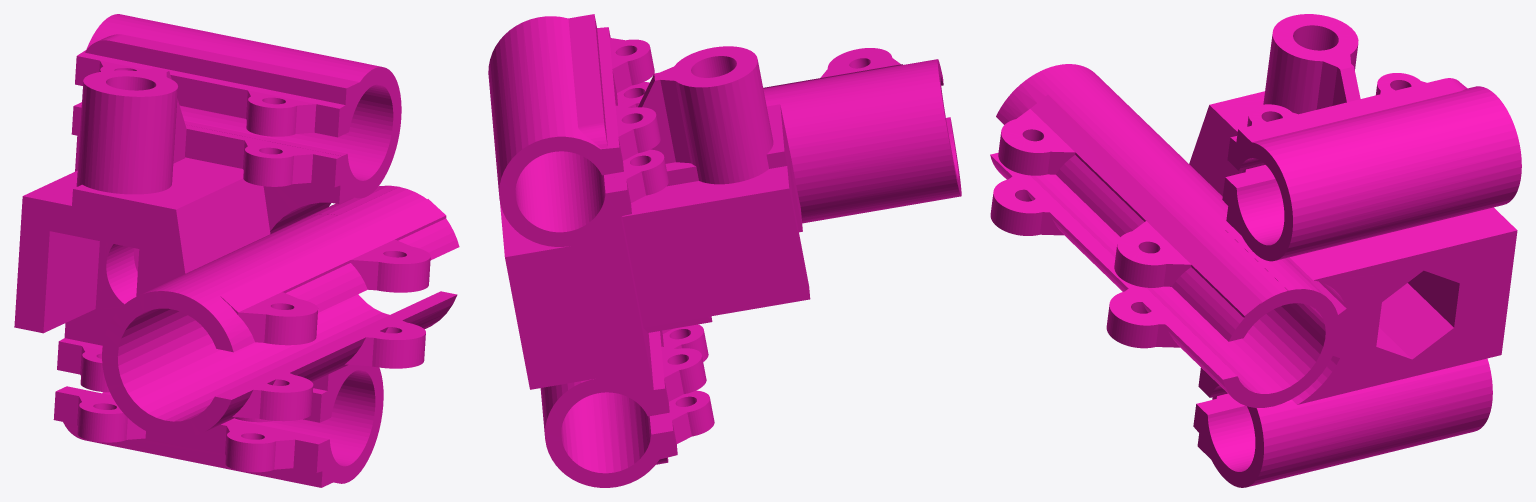
Rendered from gear2_5.dae.
The picture shows the model from 3 angles, left to right: view 1: azimuth 30°, elevation 25°; view 2: azimuth 150°, elevation 25°; view 3: azimuth 270°, elevation 25°; orthographic projection. The views are drawn at different scales.
Visible parts, largest first — view 1: gear2_019; view 2: gear2_019; view 3: gear2_019.
Boxes of the visible parts, x1,y1,x2,y2 form: gear2_019: [14, 14, 459, 487]; gear2_019: [488, 14, 961, 487]; gear2_019: [990, 14, 1521, 487].
Size of the model in its own units: 0.0776 by 0.0922 by 0.0726.
